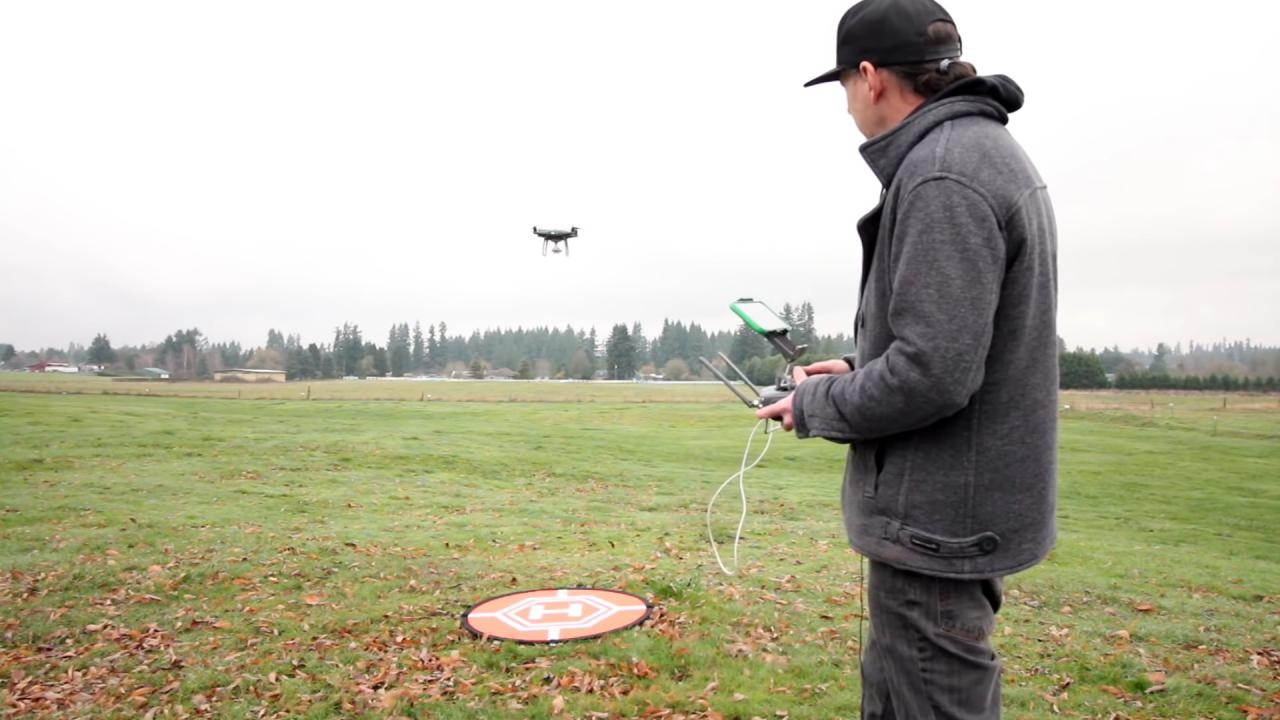Drone: (514, 214, 596, 260)
